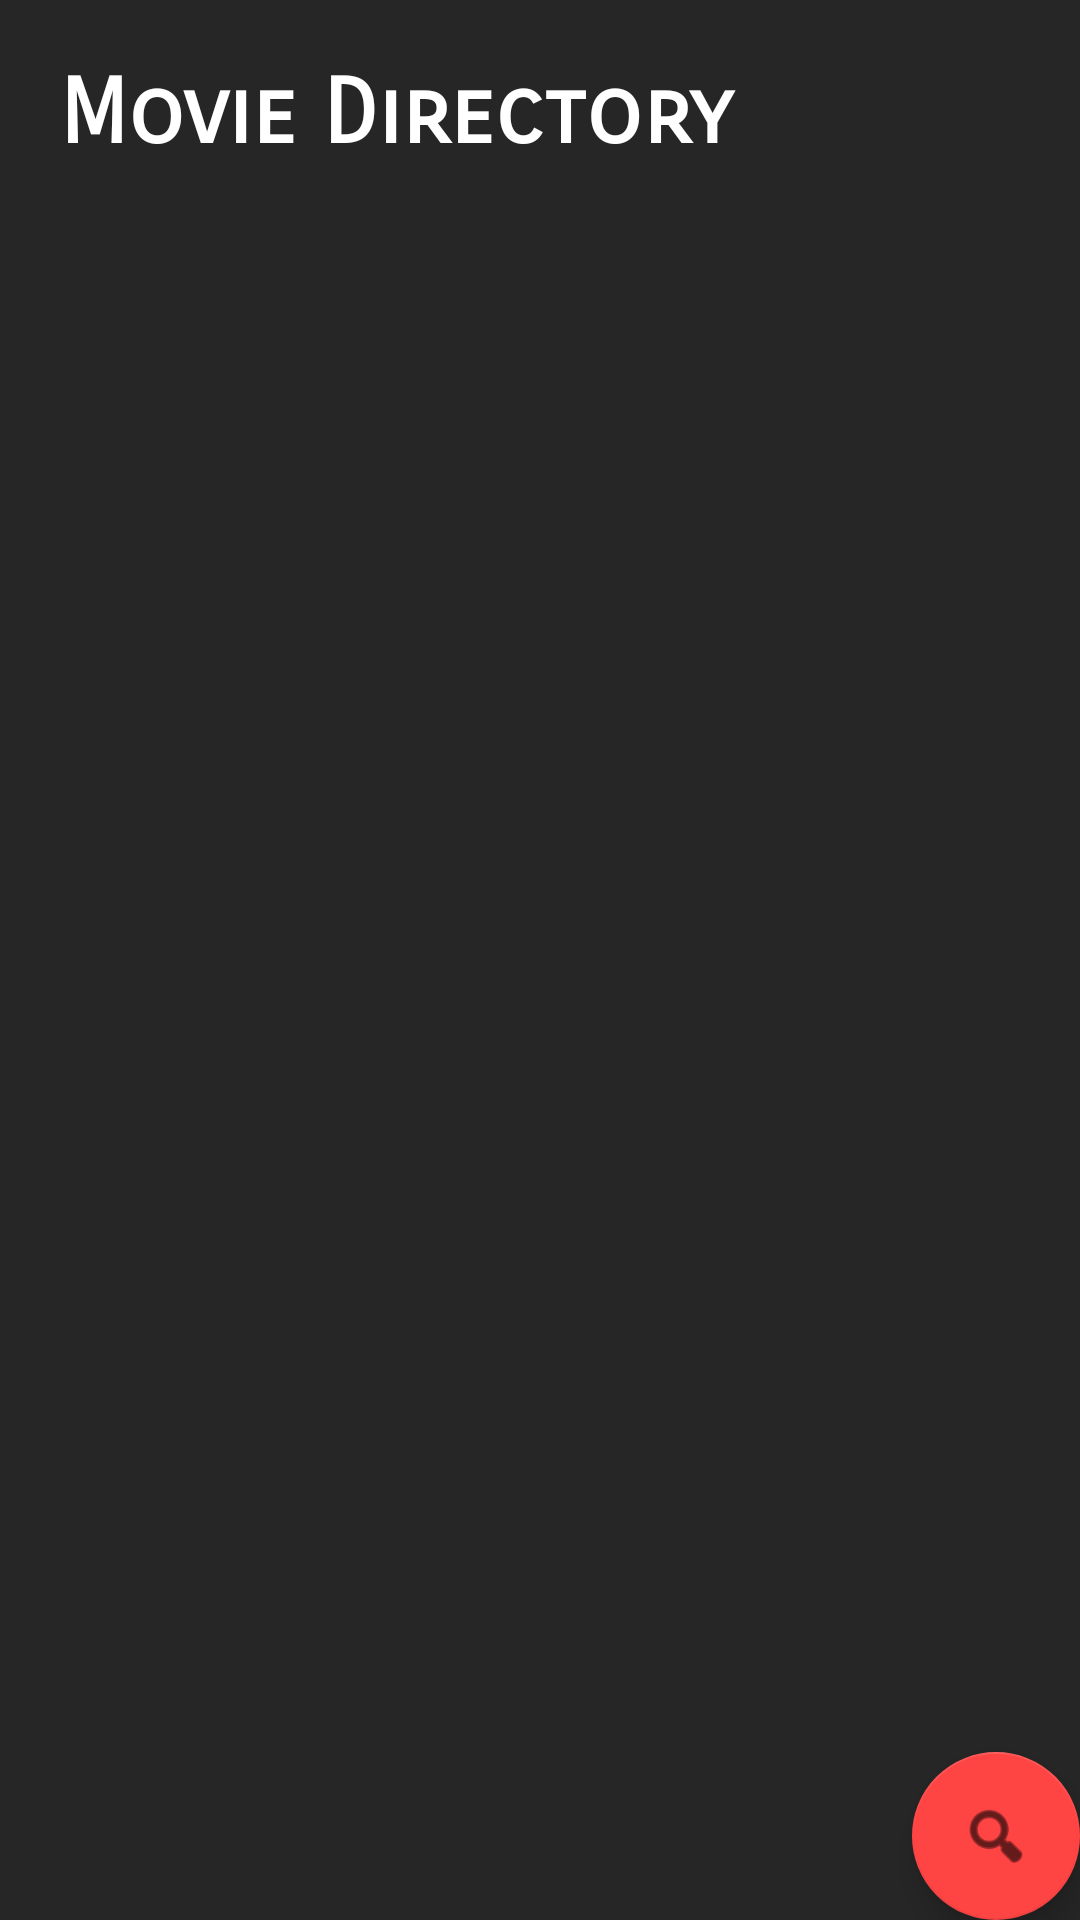

Locate icon controls on the screen. Image size 1080w x 1920h, boxes as (x1, y1, x2, y2).
search: (912, 1752, 1080, 1920)
